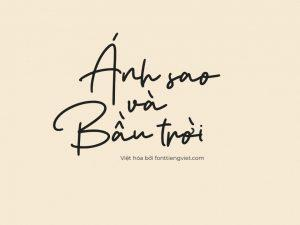text: (78, 31, 222, 106), (52, 99, 205, 157), (125, 89, 168, 114), (120, 155, 205, 162)
